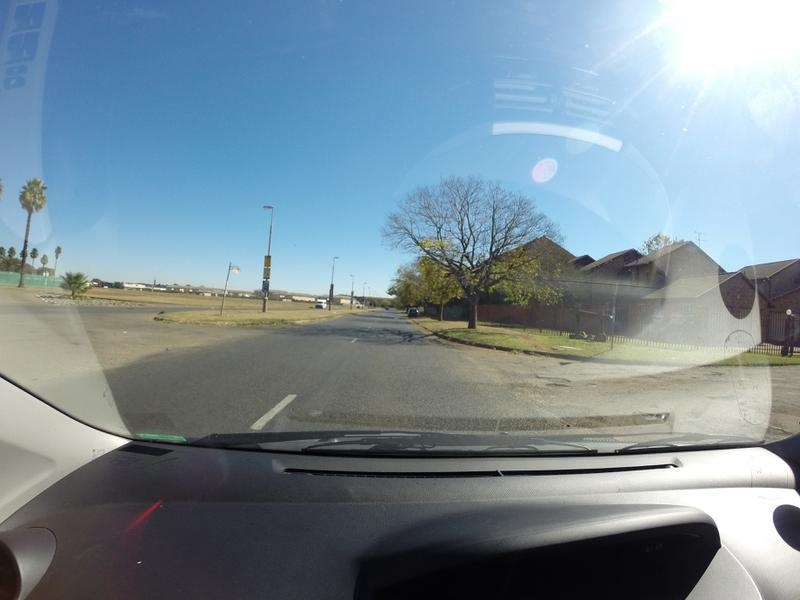pothole: (695, 369, 724, 377), (526, 374, 563, 379), (540, 383, 568, 388)
